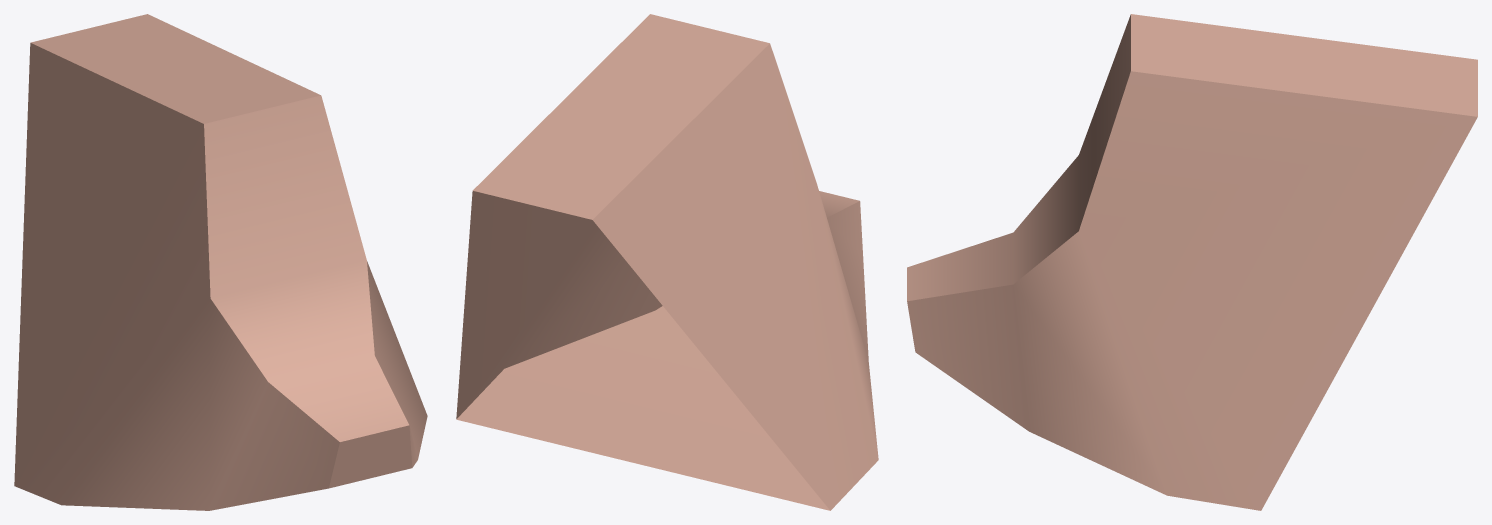
The model's file is Nariz_Respingada.fbx.
The picture shows the model from 3 angles, left to right: view 1: azimuth 30°, elevation 25°; view 2: azimuth 150°, elevation 25°; view 3: azimuth 270°, elevation 25°; orthographic projection. The views are drawn at different scales.
Visible parts, largest first — view 1: Nariz_Respingada; view 2: Nariz_Respingada; view 3: Nariz_Respingada.
Part boxes in pixels (<box>): Nariz_Respingada: <box>14,14,427,510</box>; Nariz_Respingada: <box>456,14,878,510</box>; Nariz_Respingada: <box>907,14,1477,510</box>.
Size of the model in its own units: 0.4394 by 0.4351 by 0.5938.
